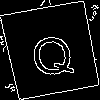Q: (26, 25, 77, 81)
